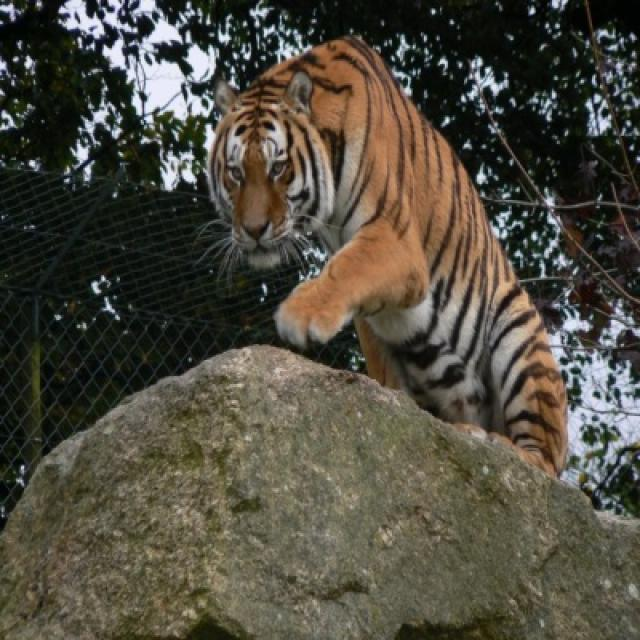Tiger: (209, 46, 571, 478)
